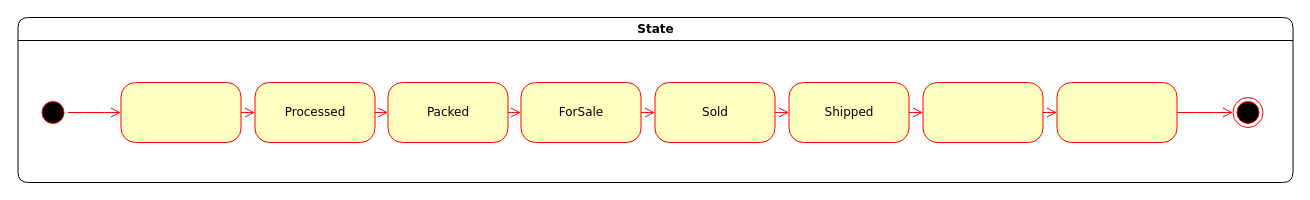
Some shapes in this 1310 by 200 pixel diagram are drawn without their labels. Here are the shapes that lost their labels. From the top down, the centre of each, then its label:
At point 180,112: "Harvested".
At point 982,112: "Received".
At point 1116,112: "Purchased".
